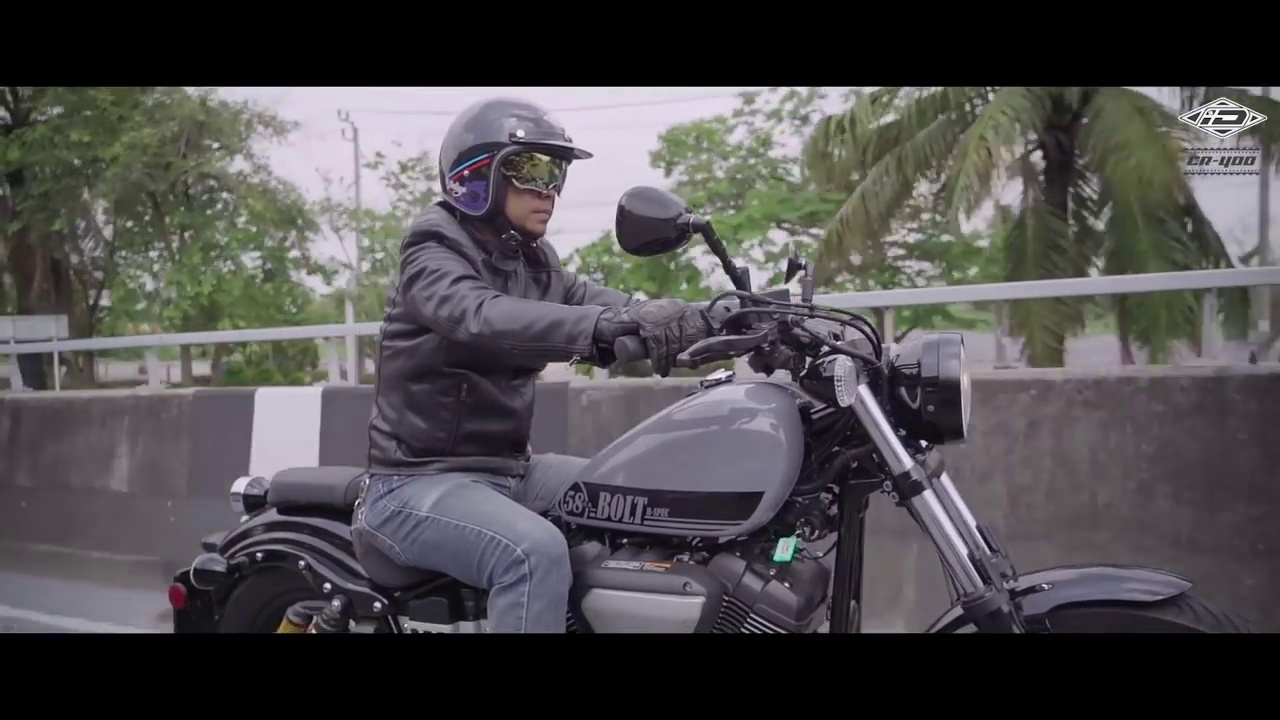helmet: (422, 85, 585, 224)
